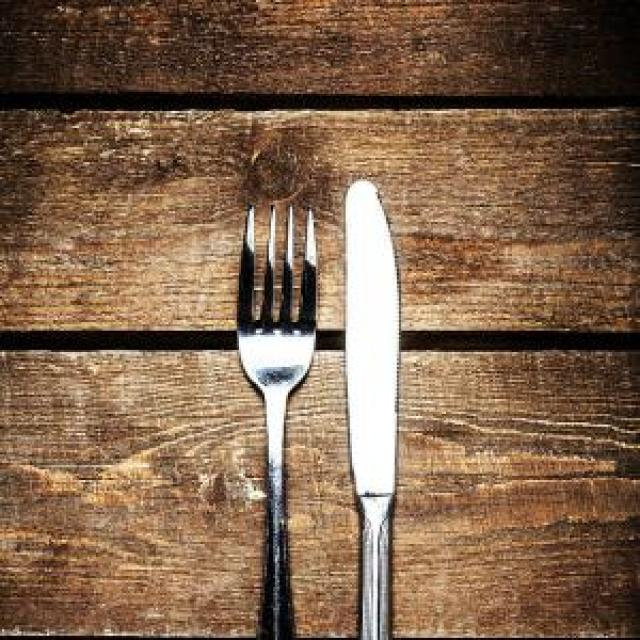knife: (337, 179, 405, 638)
